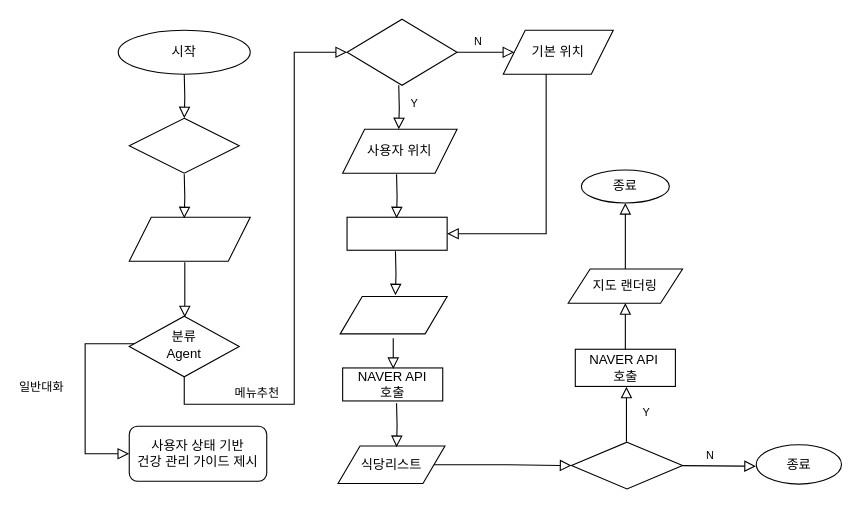
The diagram is 861 pixels wide and 508 high, and some of its shapes have lost their labels. Here are the shapes that lost their labels. From the top down, the box of each, then its label:
(346, 18, 457, 85): 현재 위치 제공 동의
(128, 117, 239, 173): Chatbot 시스템 접근
(128, 216, 250, 261): 사용자 입력
(346, 216, 447, 250): 메뉴 추천
(339, 295, 447, 334): 메뉴 리스트
(570, 441, 683, 489): 전체보기
